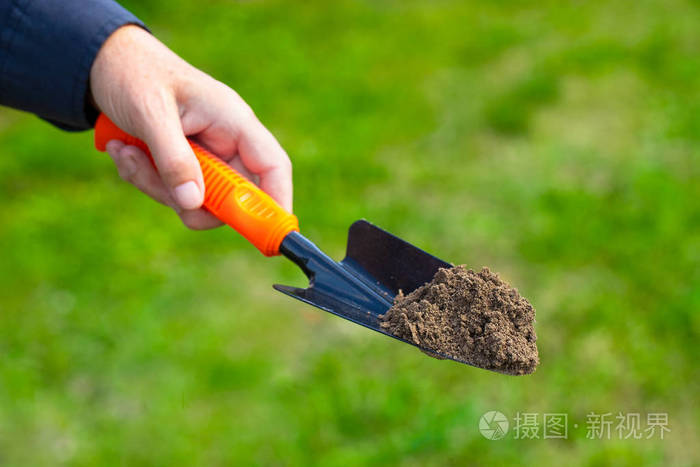no-phone: (89, 26, 430, 337)
